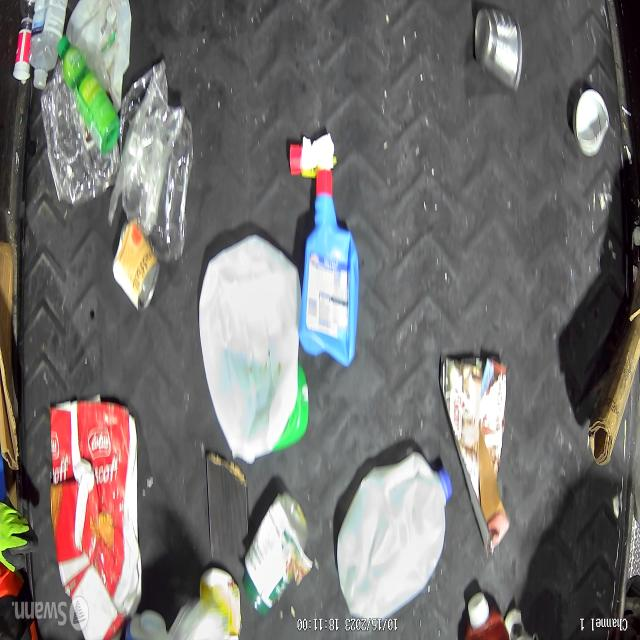can: (477, 0, 525, 95), (112, 220, 159, 312)
milk_jug: (202, 234, 300, 463), (335, 450, 452, 622)
non_white_jug: (304, 178, 356, 367)
plastic_bottle: (120, 60, 194, 265), (39, 54, 120, 210), (57, 36, 120, 153)
